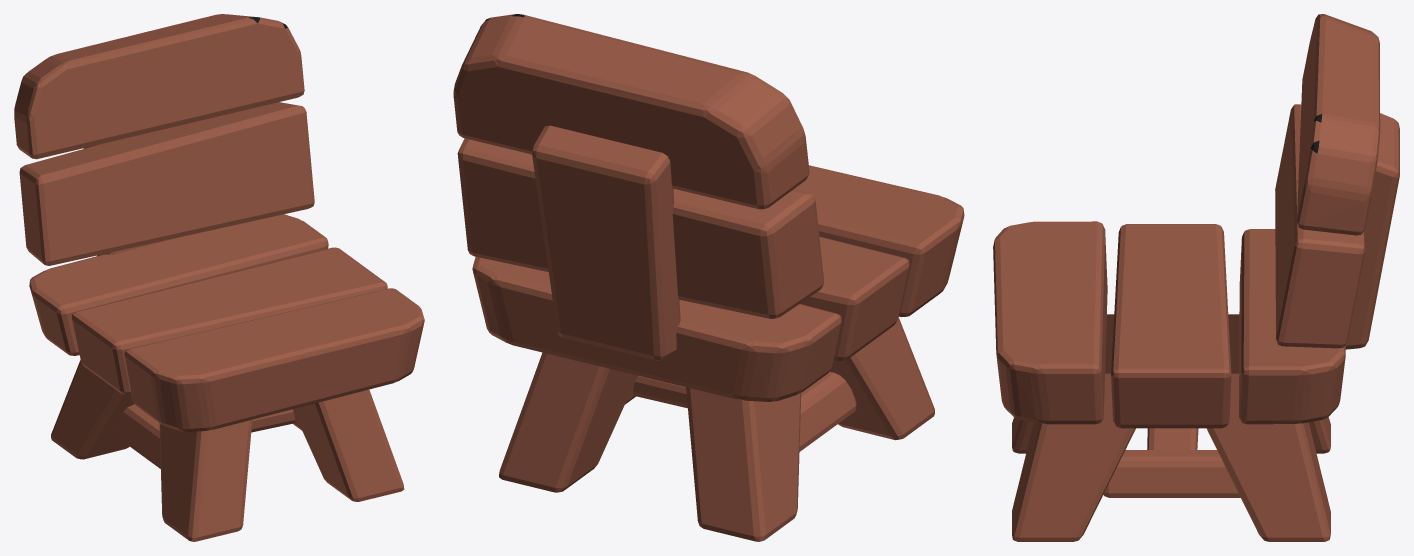
Rendered from chair.gltf.
3 views of the same model, side by side, from view 1: azimuth 30°, elevation 25°; view 2: azimuth 150°, elevation 25°; view 3: azimuth 270°, elevation 25° (orthographic). The views are drawn at different scales.
Visible parts, largest first — view 1: chair; view 2: chair; view 3: chair.
Boxes of the visible parts, box(x1,y1,x2,y2) form: chair: box(14, 14, 424, 541); chair: box(453, 14, 964, 541); chair: box(993, 14, 1399, 541).
Bounding box in the file's own units: 0.7464 × 0.9909 × 0.8699.
